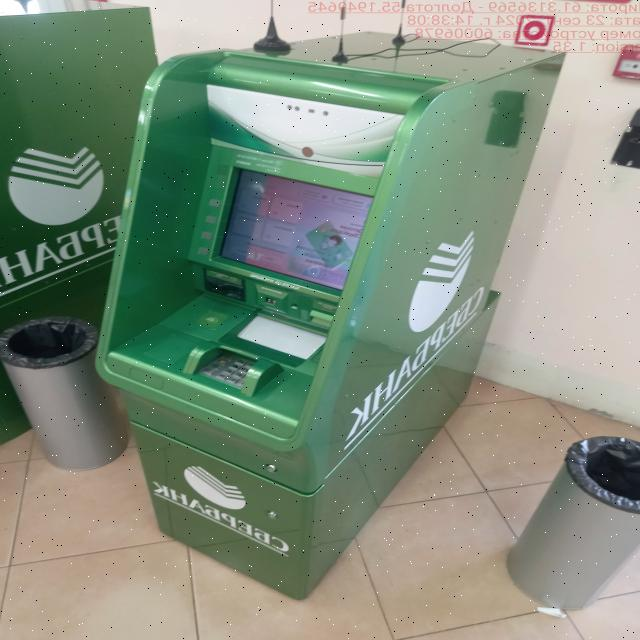bank: (90, 28, 564, 602)
